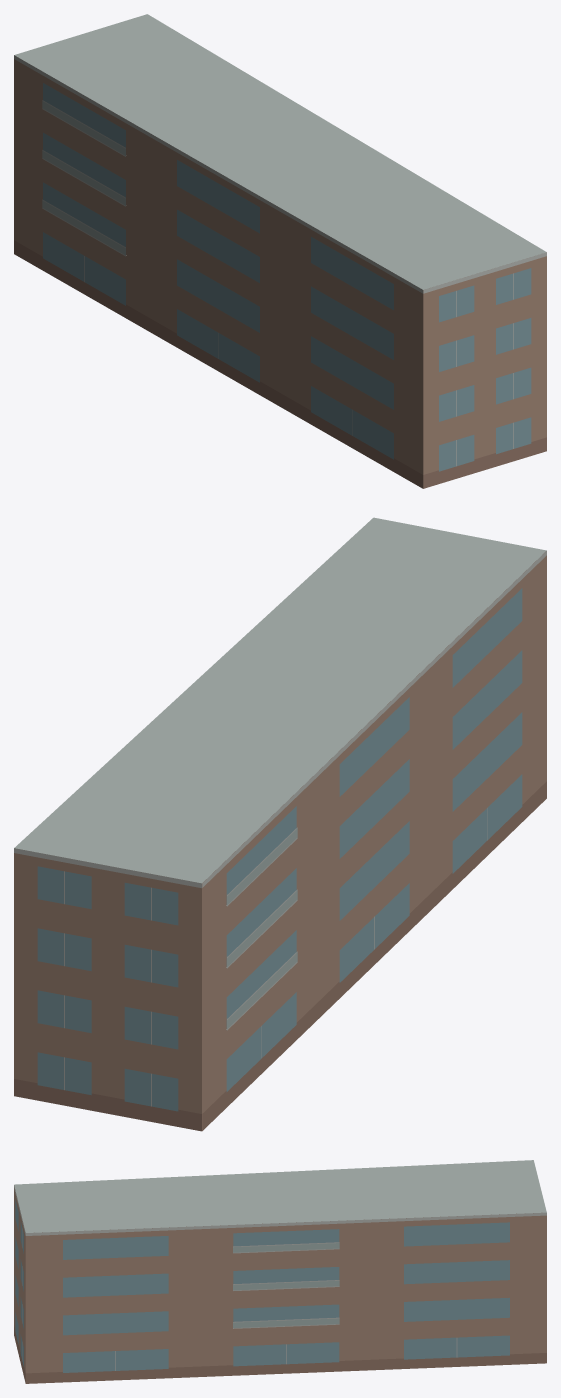
The model's file is survey-upis-32664408.glb.
3 renders of one model, top to bottom at view 1: azimuth 30°, elevation 25°; view 2: azimuth 150°, elevation 25°; view 3: azimuth 270°, elevation 25°, orthographic. The views are drawn at different scales.
Parts seen in each view (by area): view 1: survey-upis-32664408.tmp; view 2: survey-upis-32664408.tmp; view 3: survey-upis-32664408.tmp.
Part boxes in pixels (left/top/right/bottom): survey-upis-32664408.tmp: left=14, top=14, right=546, bottom=488; survey-upis-32664408.tmp: left=14, top=517, right=546, bottom=1131; survey-upis-32664408.tmp: left=14, top=1160, right=546, bottom=1383.
Size of the model in its own units: 12.9 by 12.4 by 39.72.
